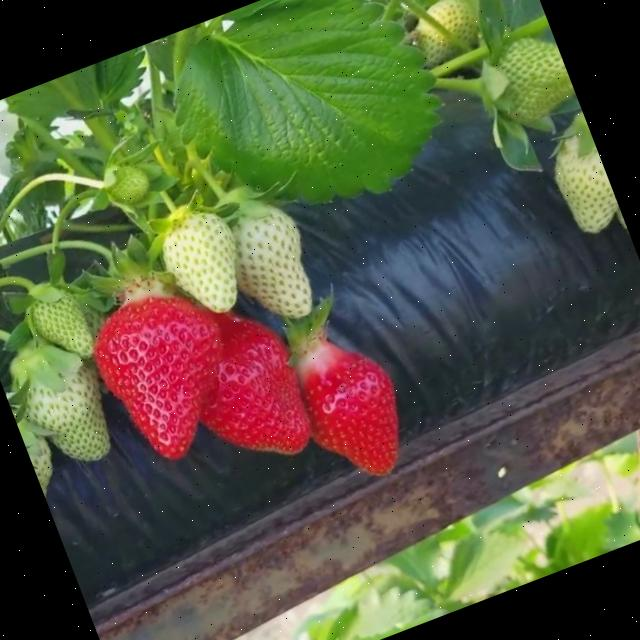Ripe Strawberry: (81, 276, 256, 472), (171, 300, 322, 480), (288, 343, 420, 494)
